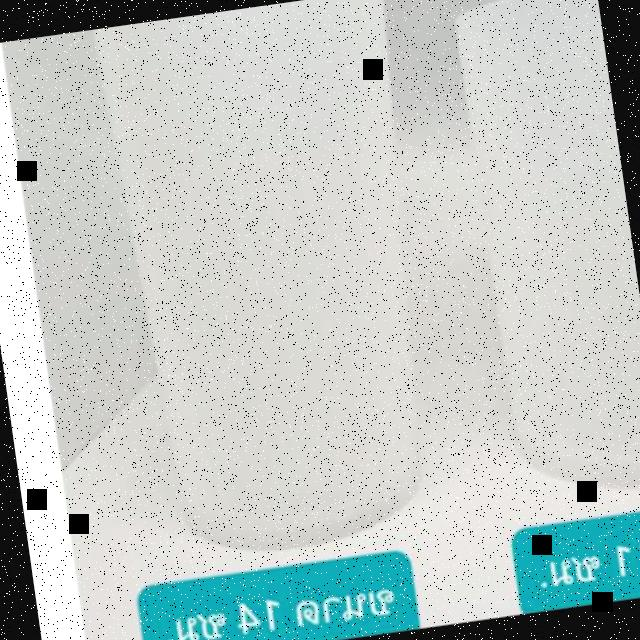plastic_cup: (88, 0, 462, 569), (449, 0, 640, 506)
